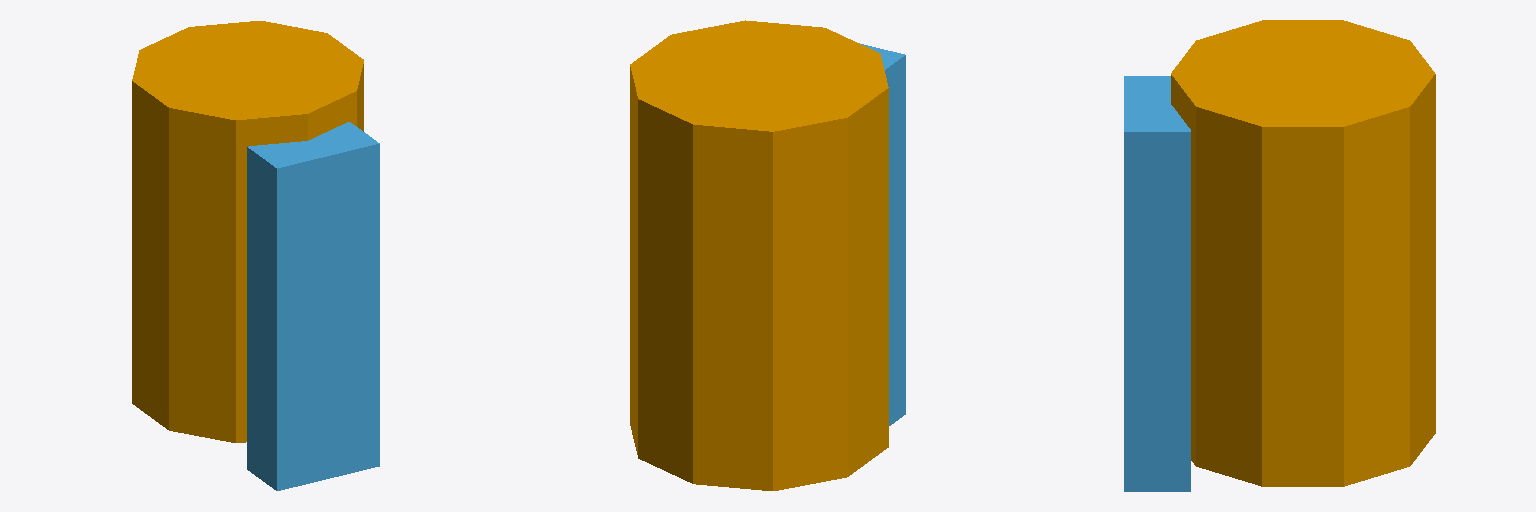
The robot description file, URDF, robot "origins":
<?xml version="1.0"?>
<robot name="origins">

 <link name="base_link">
   <visual>
     <geometry>
        <mesh filename="package://basic/cylinder.obj"/>
     </geometry>
   </visual>
 </link>

 <link name="right_leg">
   <visual>
     <geometry>
        <mesh filename="package://basic/box.obj"/>
     </geometry>
     <origin rpy="0 1.57075 0" xyz="0 0 -0.3"/>
   </visual>
 </link>

 <joint name="base_to_right_leg" type="fixed">
   <parent link="base_link"/>
   <child link="right_leg"/>
   <origin xyz="0 -0.22 0.25"/>
 </joint>

</robot>

--- Render facts (derived) ---
3 views of the same robot in one strip: view 1: azimuth 30°, elevation 25°; view 2: azimuth 150°, elevation 25°; view 3: azimuth 270°, elevation 25° (orthographic).
Robot: origins — 2 links, 1 joints (1 fixed); root link base_link; default pose: all joints at 0.
Links seen in each view (by area): view 1: base_link, right_leg; view 2: base_link, right_leg; view 3: base_link, right_leg.
Link boxes in pixels (<box>): base_link: <box>132,21,363,442</box>; right_leg: <box>247,122,379,490</box>; base_link: <box>630,20,888,490</box>; right_leg: <box>859,43,905,425</box>; base_link: <box>1171,20,1435,486</box>; right_leg: <box>1124,76,1190,491</box>.
Bounding box of the posed robot: 0.38 × 0.47 × 0.65 m (x, y, z).
Meshes: 2 distinct files referenced, 2 mesh visuals loaded (2 OBJ).